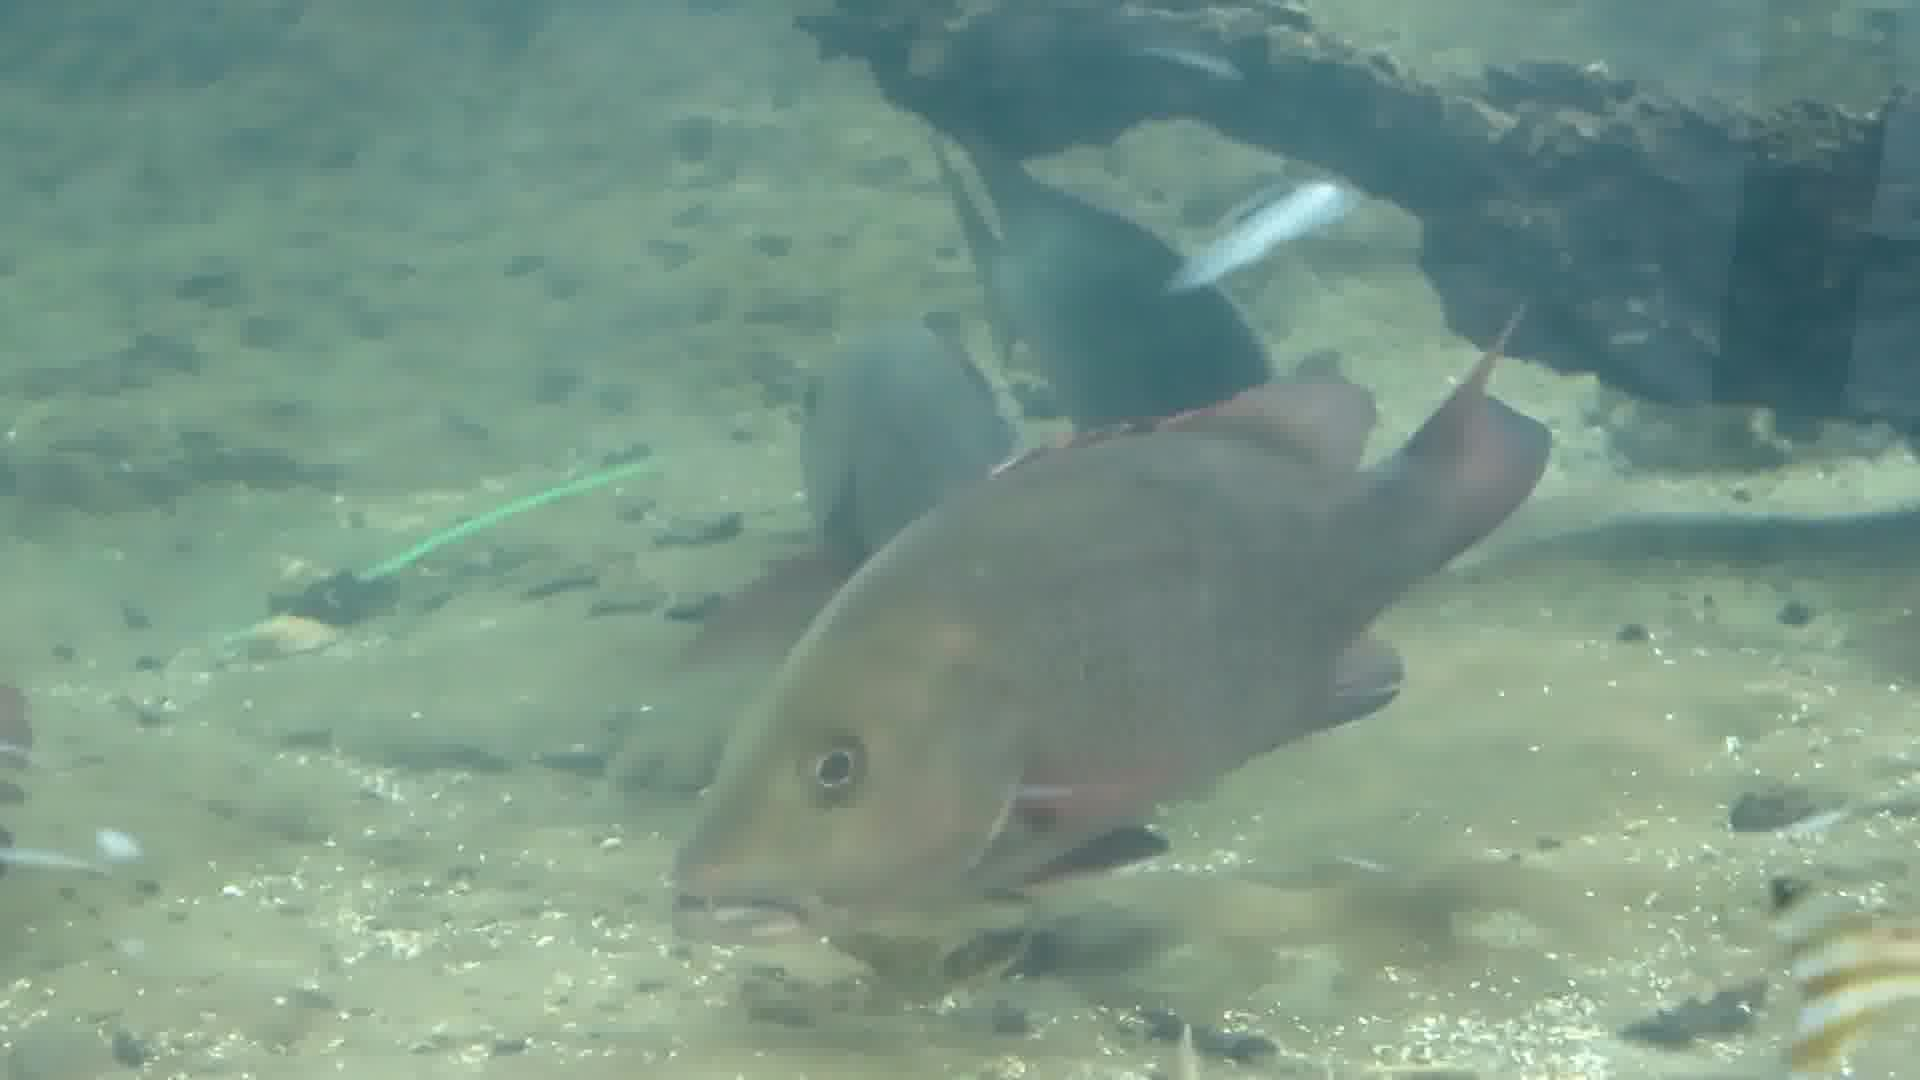Lutjanus argentimaculatus: (665, 414, 1412, 959)
